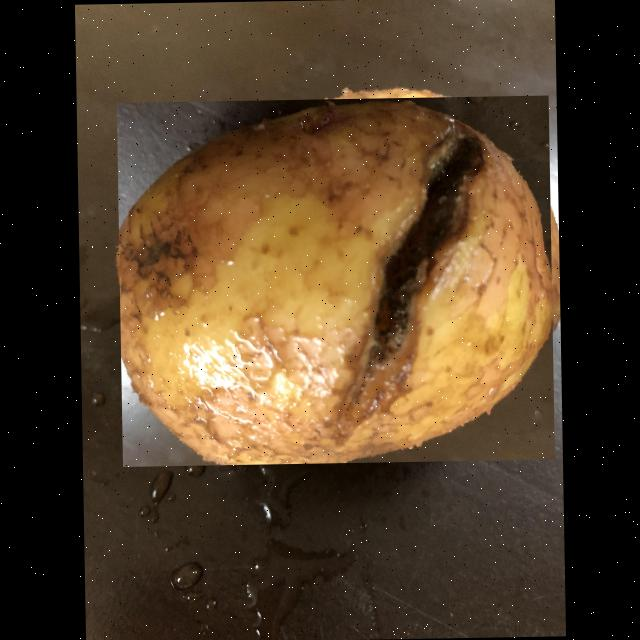Damaged potato: (116, 95, 554, 466)
